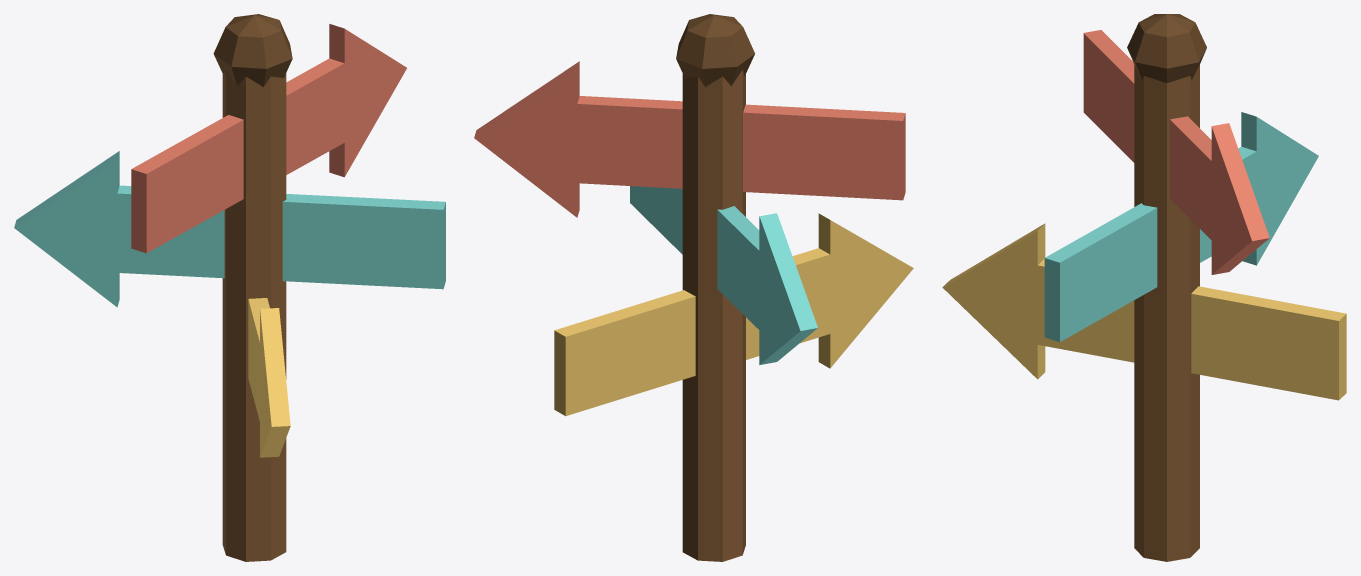
File: xy_beach_sign.glb
3 views of the same model, side by side, from view 1: azimuth 30°, elevation 25°; view 2: azimuth 150°, elevation 25°; view 3: azimuth 270°, elevation 25° (orthographic).
Parts seen in each view (by area): view 1: Sign; view 2: Sign; view 3: Sign.
Boxes of the visible parts, box(x1,y1,x2,y2) form: Sign: box(14, 14, 445, 561); Sign: box(474, 14, 913, 561); Sign: box(942, 14, 1346, 561).
Bounding box in the file's own units: 1.55 × 2.15 × 1.48.
